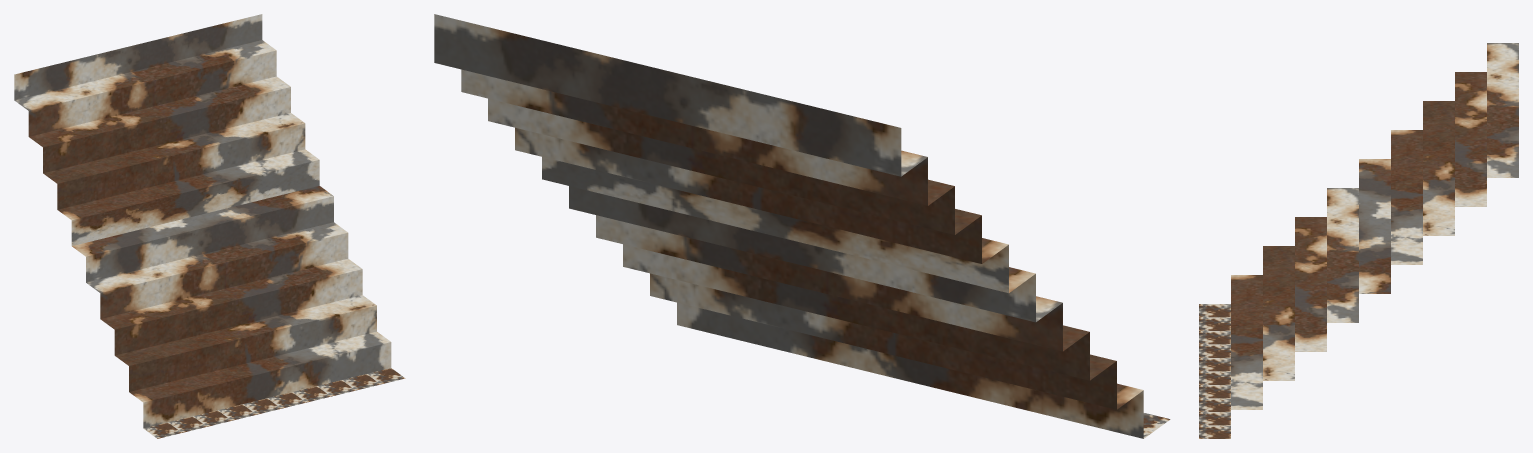
File: stairs.fbx
The picture shows the model from 3 angles, left to right: view 1: azimuth 30°, elevation 25°; view 2: azimuth 150°, elevation 25°; view 3: azimuth 270°, elevation 25°; orthographic projection. The views are drawn at different scales.
Visible parts, largest first — view 1: pPlane4; view 2: pPlane4; view 3: pPlane4.
Boxes of the visible parts, left/top/right/bottom form: pPlane4: left=14, top=14, right=405, bottom=438; pPlane4: left=434, top=14, right=1170, bottom=438; pPlane4: left=1199, top=43, right=1518, bottom=438.
Bounding box in the file's own units: 300 × 300 × 300.
